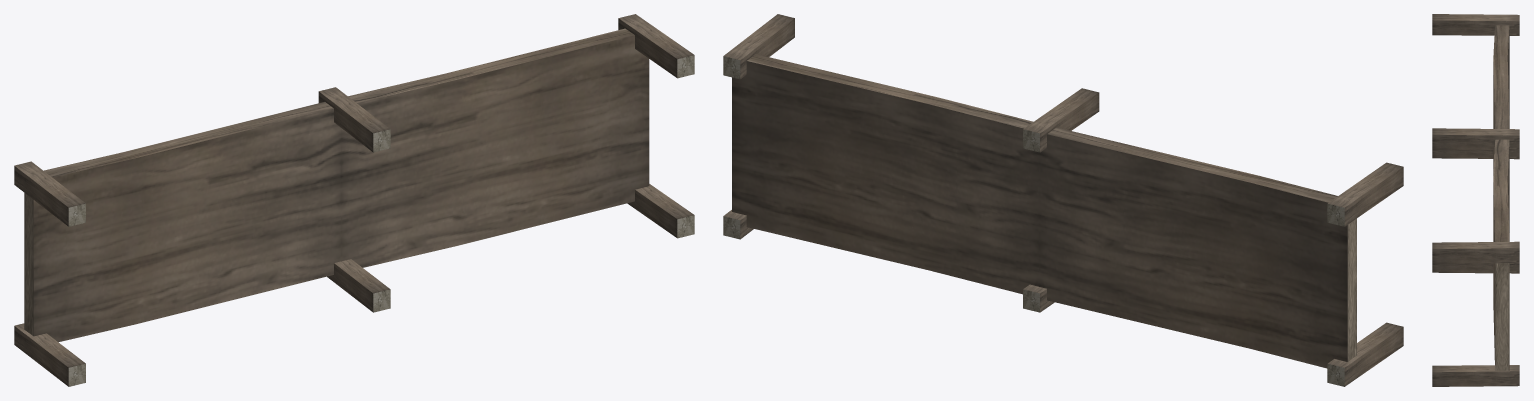
Rendered from Counter_Type_02_B.fbx.
3 views of the same model, side by side, from view 1: azimuth 30°, elevation 25°; view 2: azimuth 150°, elevation 25°; view 3: azimuth 270°, elevation 25° (orthographic). The views are drawn at different scales.
Visible parts, largest first — view 1: Counter_Type_02_B; view 2: Counter_Type_02_B; view 3: Counter_Type_02_B.
Part boxes in pixels (x1=…): Counter_Type_02_B: x1=14, y1=14, x2=694, y2=386; Counter_Type_02_B: x1=723, y1=14, x2=1403, y2=386; Counter_Type_02_B: x1=1432, y1=14, x2=1519, y2=386.
Size of the model in its own units: 6.64 by 1.82 by 1.04.
